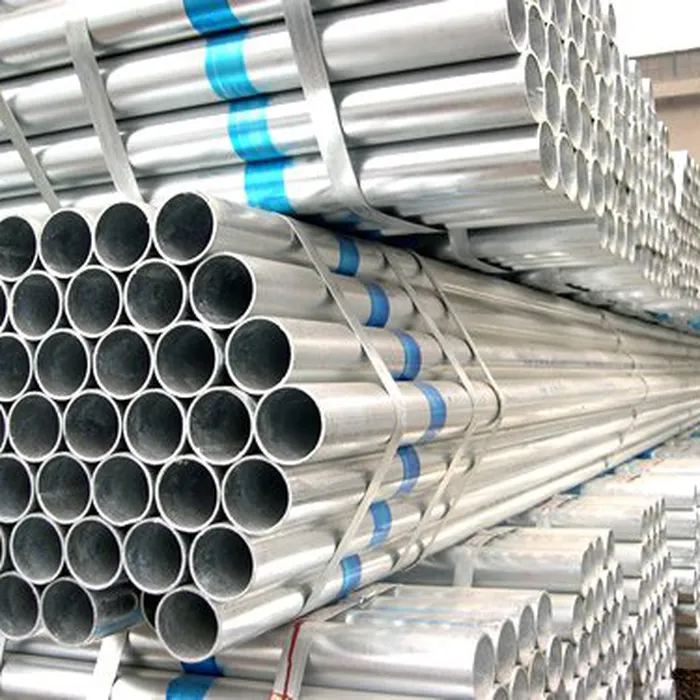steel_pipe: (250, 382, 328, 468), (153, 588, 225, 664), (91, 323, 157, 404)
